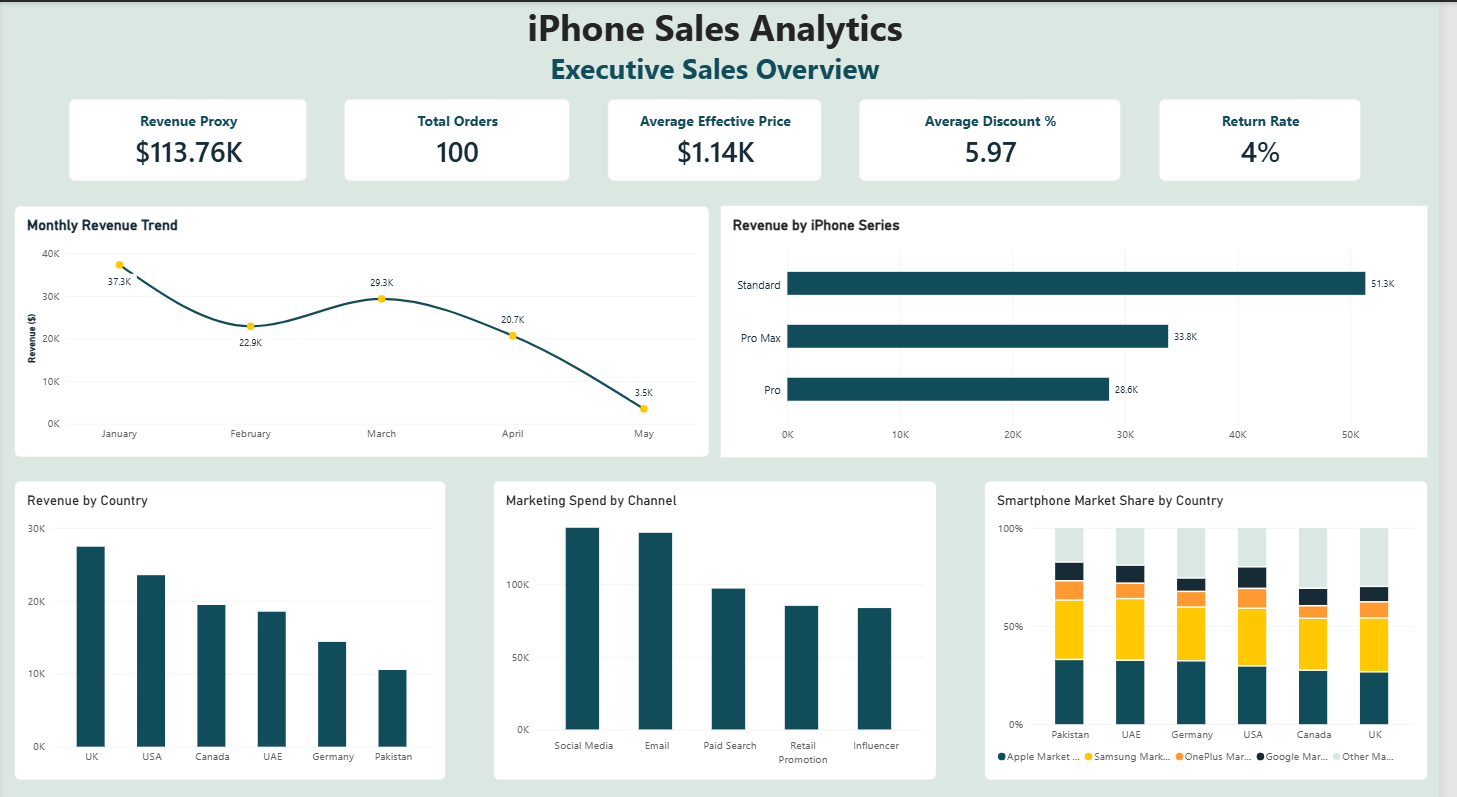

Layout of this report page (visuals, bound fields, positions):
{"tool":"powerbi","page":{"name":"Executive Overview","canvas":[1920,1080],"ordinal":0},"visuals":[{"type":"textbox","box":[352,64,1200,64],"z":0},{"type":"textbox","box":[320,0,1264,64],"z":1000},{"type":"cardVisual","fields":{"Data":["Measures (2).Revenue Proxy"]},"box":[88,128,320,112],"z":2000},{"type":"cardVisual","fields":{"Data":["Measures (2).Total Orders"]},"box":[456,128,304,112],"z":3000},{"type":"cardVisual","fields":{"Data":["Measures (2).Average Effective Price"]},"box":[808,128,288,112],"z":4000},{"type":"cardVisual","fields":{"Data":["Measures (2).Average Discount %"]},"box":[1144,128,352,112],"z":5000},{"type":"cardVisual","fields":{"Data":["Measures (2).Return Rate"]},"box":[1544,128,272,112],"z":6000},{"type":"lineChart","title":"Monthly Revenue Trend","fields":{"Category":["public dim_date.month_name"],"Y":["Measures (2).Revenue Proxy"]},"box":[16,272,928,336],"z":7000},{"type":"barChart","title":"Revenue by iPhone Series","fields":{"Category":["public dim_product.series"],"Y":["Measures (2).Revenue Proxy"]},"box":[960,272,944,336],"z":8000},{"type":"columnChart","title":"Revenue by Country","fields":{"Y":["Measures (2).Revenue Proxy"],"Category":["Dim_Country.country"]},"box":[16,640,576,400],"z":9000},{"type":"columnChart","title":"Marketing Spend by Channel","fields":{"Category":["public fact_marketing.campaign_channel"],"Y":["Measures (2).Marketing Spend"]},"box":[656,640,592,400],"z":10000},{"type":"hundredPercentStackedColumnChart","title":"Smartphone Market Share by Country","fields":{"Category":["public dim_market.country"],"Y":["Measures (2).Apple Market Share %","Measures (2).Samsung Market Share %","Measures (2).OnePlus Market Share %","Measures (2).Google Market Share %","Measures (2).Other Market Share %"]},"box":[1312,640,592,400],"z":11000}]}

Visuals, with their boxes in screenshot pixels (x1, y1, x2, y2), scaled from the page's 1920x1080 canvas onto the 1457x797 screenshot:
textbox: detection(267, 47, 1178, 94)
textbox: detection(243, 0, 1202, 47)
cardVisual - Measures (2).Revenue Proxy: detection(67, 94, 310, 177)
cardVisual - Measures (2).Total Orders: detection(346, 94, 577, 177)
cardVisual - Measures (2).Average Effective Price: detection(613, 94, 832, 177)
cardVisual - Measures (2).Average Discount %: detection(868, 94, 1135, 177)
cardVisual - Measures (2).Return Rate: detection(1172, 94, 1378, 177)
"Monthly Revenue Trend" lineChart: detection(12, 201, 716, 449)
"Revenue by iPhone Series" barChart: detection(728, 201, 1445, 449)
"Revenue by Country" columnChart: detection(12, 472, 449, 767)
"Marketing Spend by Channel" columnChart: detection(498, 472, 947, 767)
"Smartphone Market Share by Country" hundredPercentStackedColumnChart: detection(996, 472, 1445, 767)
